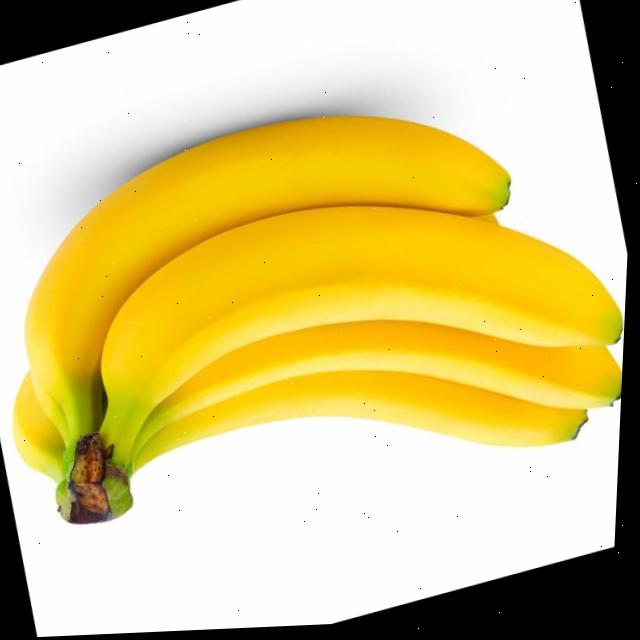Wet: (15, 118, 511, 481), (101, 208, 626, 473), (136, 323, 626, 459), (140, 375, 592, 469)
